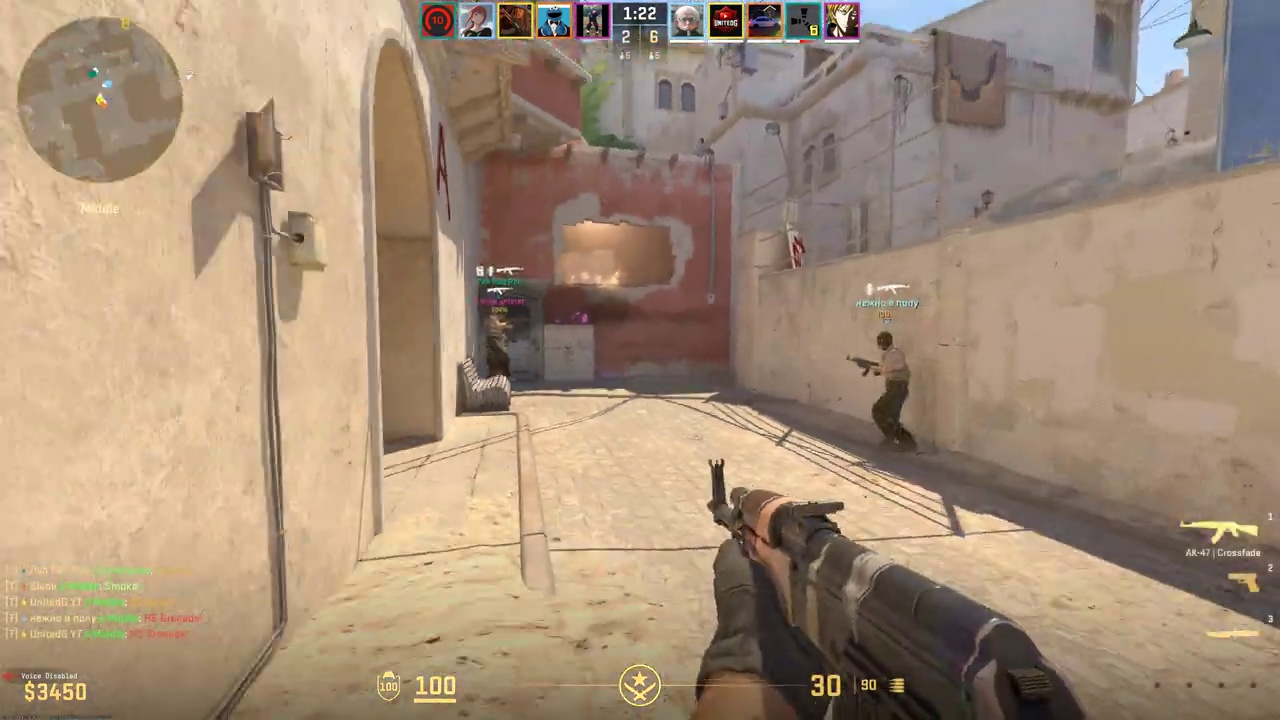Terrorist: (869, 331, 916, 453), (485, 306, 510, 378)
